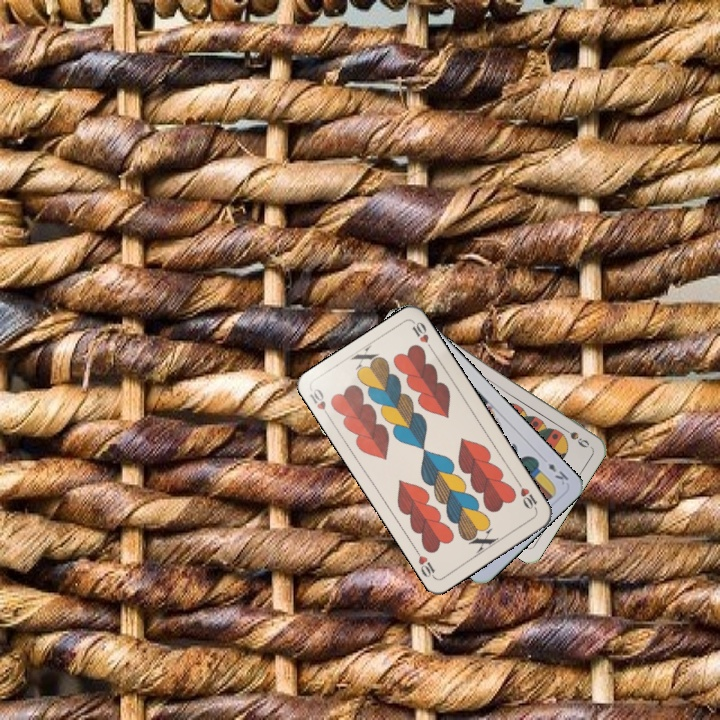EK: (544, 459, 572, 488)
H10: (306, 384, 334, 422), (513, 477, 540, 513)
S9: (556, 422, 592, 451)
